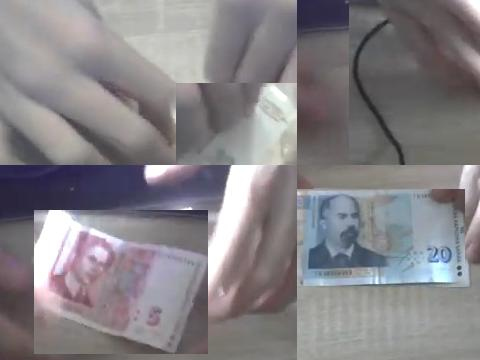10leva: (176, 83, 296, 165)
20leva: (297, 189, 465, 286)
5leva: (34, 210, 208, 354)
